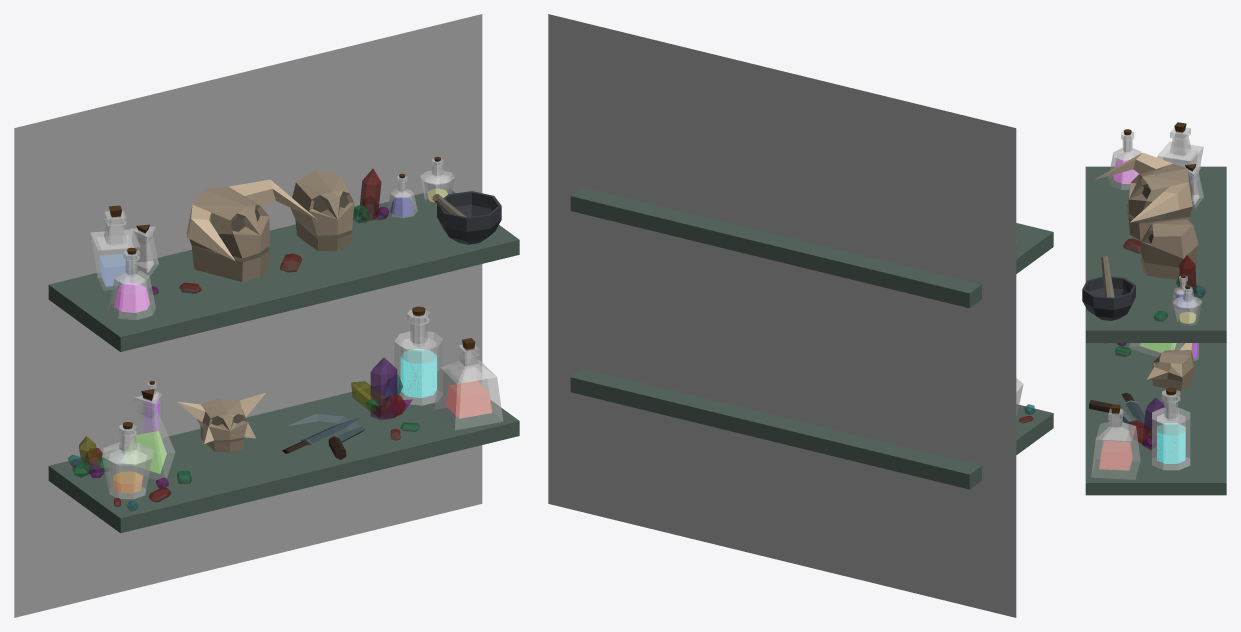
File: Set_shaman.fbx
3 views of the same model, side by side, from view 1: azimuth 30°, elevation 25°; view 2: azimuth 150°, elevation 25°; view 3: azimuth 270°, elevation 25° (orthographic). The views are drawn at different scales.
Parts seen in each view (by area): view 1: 3, 18, 4, 17, 22, 20, 19, 24, 5, 21, 23, 30 (+6 smaller); view 2: 3; view 3: 3, 18, 17, 4, 22, 20, 19, 5, 23, 30, 26, 29 (+5 smaller).
Part boxes in pixels (x1,y1,x2,y2): 3: [14, 14, 519, 617]; 18: [186, 179, 318, 281]; 4: [434, 338, 503, 429]; 17: [290, 170, 354, 251]; 22: [394, 306, 443, 405]; 20: [432, 191, 501, 244]; 19: [177, 392, 266, 452]; 24: [102, 422, 153, 499]; 5: [90, 205, 140, 290]; 21: [115, 389, 175, 479]; 23: [108, 247, 155, 319]; 30: [351, 357, 412, 420]; 3: [548, 14, 1053, 617]; 3: [1085, 166, 1226, 495]; 18: [1094, 152, 1192, 240]; 17: [1140, 219, 1198, 279]; 4: [1091, 404, 1140, 479]; 22: [1152, 387, 1190, 470]; 20: [1082, 256, 1135, 320]; 19: [1146, 343, 1193, 391]; 5: [1157, 122, 1203, 181]; 23: [1108, 129, 1141, 189]; 30: [1128, 398, 1165, 450]; 26: [1173, 285, 1202, 325]; 29: [1174, 255, 1205, 297].
Bounding box in the file's own units: 509 × 509 × 162.
